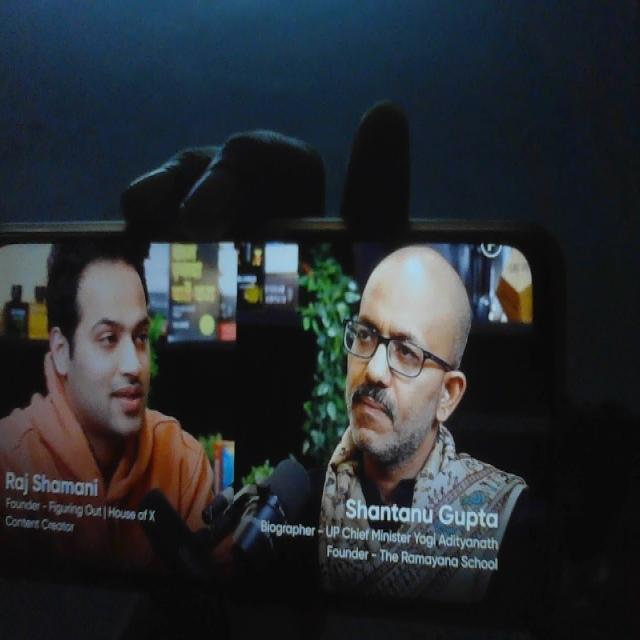fake: (328, 215, 467, 477), (50, 221, 166, 440)
